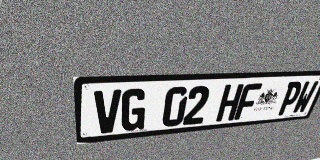0: (161, 86, 189, 127)
2: (183, 85, 211, 125)
F: (234, 83, 262, 120)
G: (120, 88, 148, 132)
H: (215, 84, 244, 122)
P: (276, 81, 304, 116)
V: (94, 89, 121, 134)
W: (291, 81, 319, 114)
